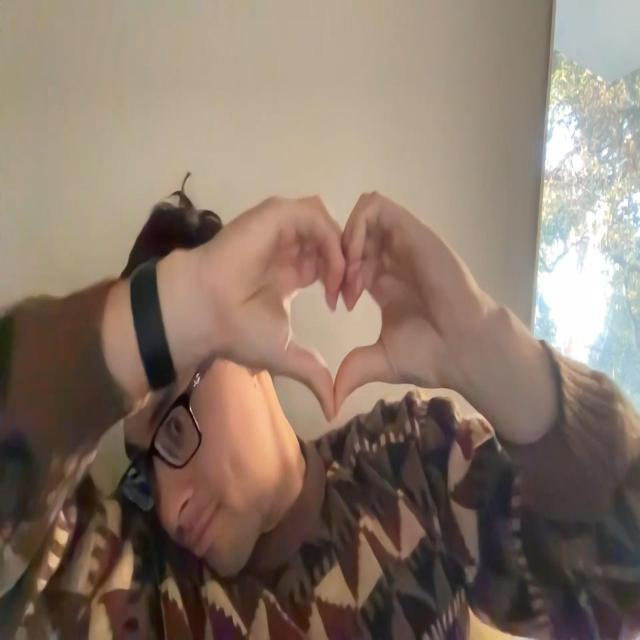face: (130, 357, 251, 576)
